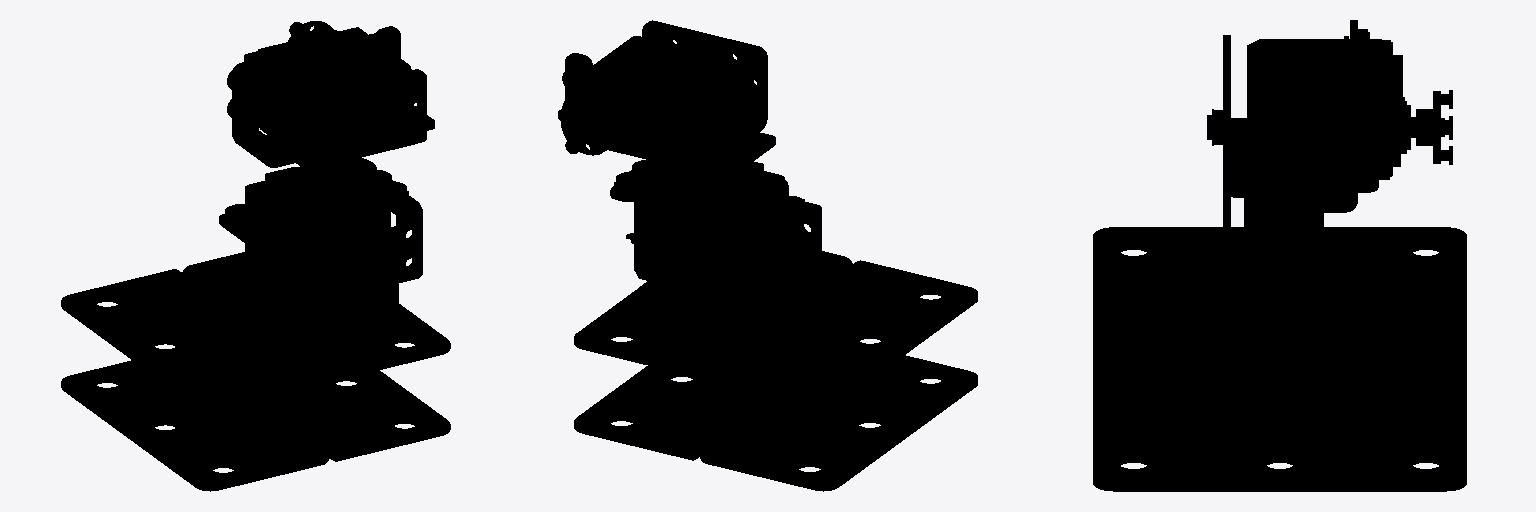
The robot description file, URDF, robot "6DOFRobotArm":
<?xml version="1.0" ?>
<robot name="6DOFRobotArm">

  <material name="black">
    <color rgba="0.0 0.0 0.0 1.0"/>
  </material>

  <link name="base"/>

  <joint name="fixed" type="fixed">
    <parent link="base"/>
    <child link="bottom"/>
  </joint>

  <link name="bottom">
      <visual>
            <origin rpy="0.0 0 0" xyz="0 0 0"/>
            <geometry>
                <mesh filename="./mesh/6.stl"/>
            </geometry>
            <material name="black"/>
      </visual>
  </link>

  <joint name="joint1" type="revolute">
    <!-- 조인트의 새로운 위치를 설정 -->
    <origin xyz="46.3 27.5 79.5" rpy="0.0 0.0 0.0"/> 
    <!-- 회전축 유지 (Z축 기준) -->
    <axis xyz="0.0 0.0 1.0"/> 
    <!-- 360도 회전을 허용 -->
    <limit lower="-3.14159" upper="3.14159" effort="30.0" velocity="1.571"/>
    <parent link="bottom"/>
    <child link="link1"/>
  </joint>

  <link name="link1">
   <inertial>
      <origin xyz="46.3 27.5 79.5" rpy="0.0 0.0 -3.1416"/>
      <mass value="1.0"/>
      <inertia ixx="0.00457" ixy="1E-06" ixz="2E-06" iyy="0.004831" iyz="0.000448" izz="0.001409"/>
    </inertial>

  <visual>
      <origin xyz="0 0 0" rpy="0.0 0.0 0.0"/>
      <geometry>
        <mesh filename="./mesh/5.stl"/>
      </geometry>
      <material name="black"/>
   </visual>
  </link>


</robot>

--- Facts derived from the render (not from the file) ---
3 views of the same robot in one strip: view 1: azimuth 30°, elevation 25°; view 2: azimuth 150°, elevation 25°; view 3: azimuth 270°, elevation 25° (orthographic).
Robot: 6DOFRobotArm — 3 links, 2 joints (1 revolute, 1 fixed); root link base; default pose: all joints at 0.
Visible links, largest first — view 1: bottom, link1; view 2: bottom, link1; view 3: bottom, link1.
Link boxes in pixels (left/top/right/bottom): bottom: left=61, top=158, right=450, bottom=491; link1: left=227, top=21, right=434, bottom=169; bottom: left=574, top=160, right=977, bottom=491; link1: left=558, top=20, right=775, bottom=169; bottom: left=1093, top=190, right=1466, bottom=491; link1: left=1207, top=20, right=1452, bottom=212.
Size in the robot's own frame: 104 by 90 by 106 metres.
2 mesh visuals loaded from 2 distinct referenced files (2 binary STL).
